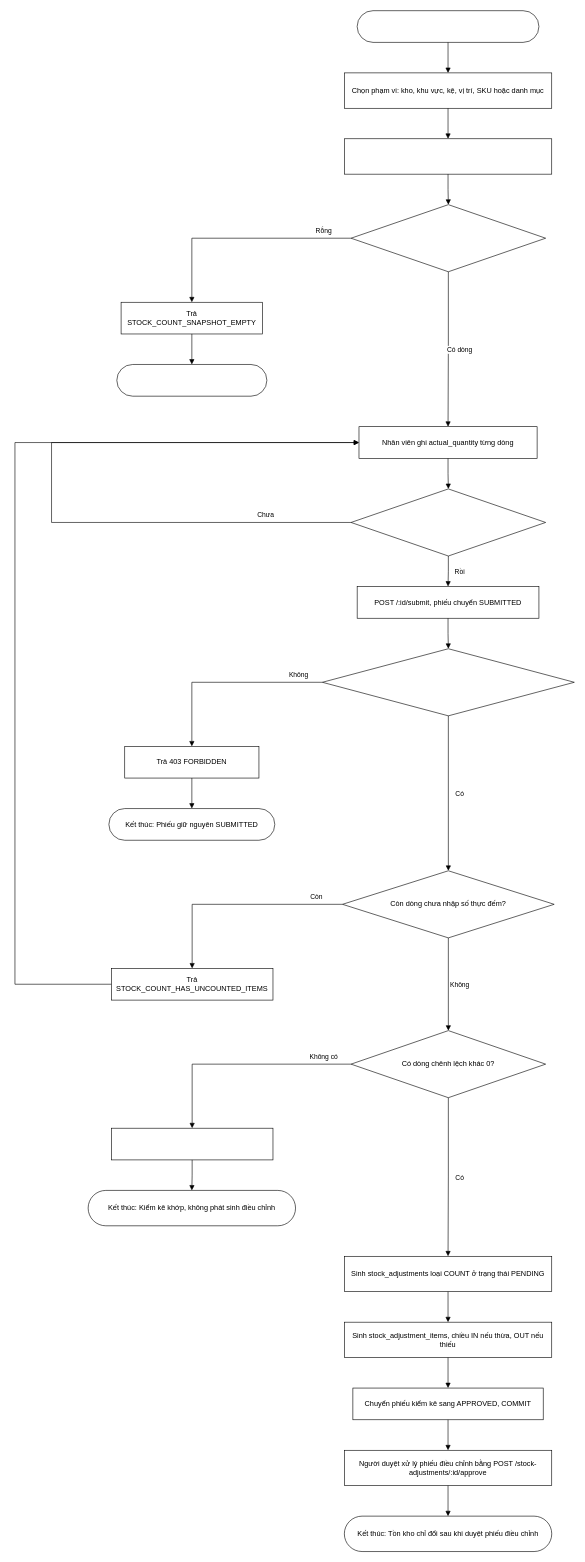
Some shapes in this 585 by 1562 pixel diagram are drawn without their labels. Here are the shapes that lost their labels. From the top down, the centre of each, then its label:
At point (448, 26): "Bắt đầu: POST /stock-counts, phiếu DRAFT".
At point (448, 156): "POST /:id/start, chốt snapshot tồn hệ thống vào stock_count_items".
At point (448, 238): "Snapshot có dòng nào không?".
At point (191, 380): "Kết thúc: Phiếu giữ nguyên DRAFT".
At point (448, 522): "Đã đếm hết các dòng?".
At point (448, 682): "Quản lý có quyền stock_counts:approve?".
At point (192, 1144): "Chuyển APPROVED, tồn kho giữ nguyên".
